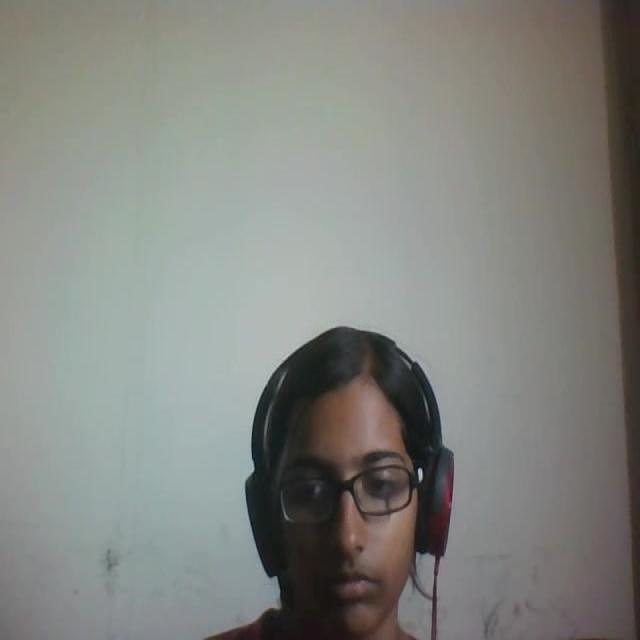Engaged: (223, 308, 479, 640)
